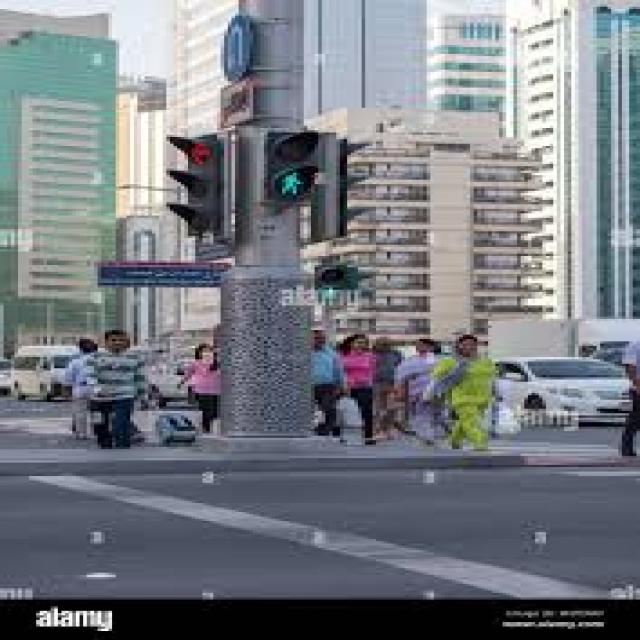Pedestrians: (80, 328, 166, 449), (430, 332, 503, 452)
